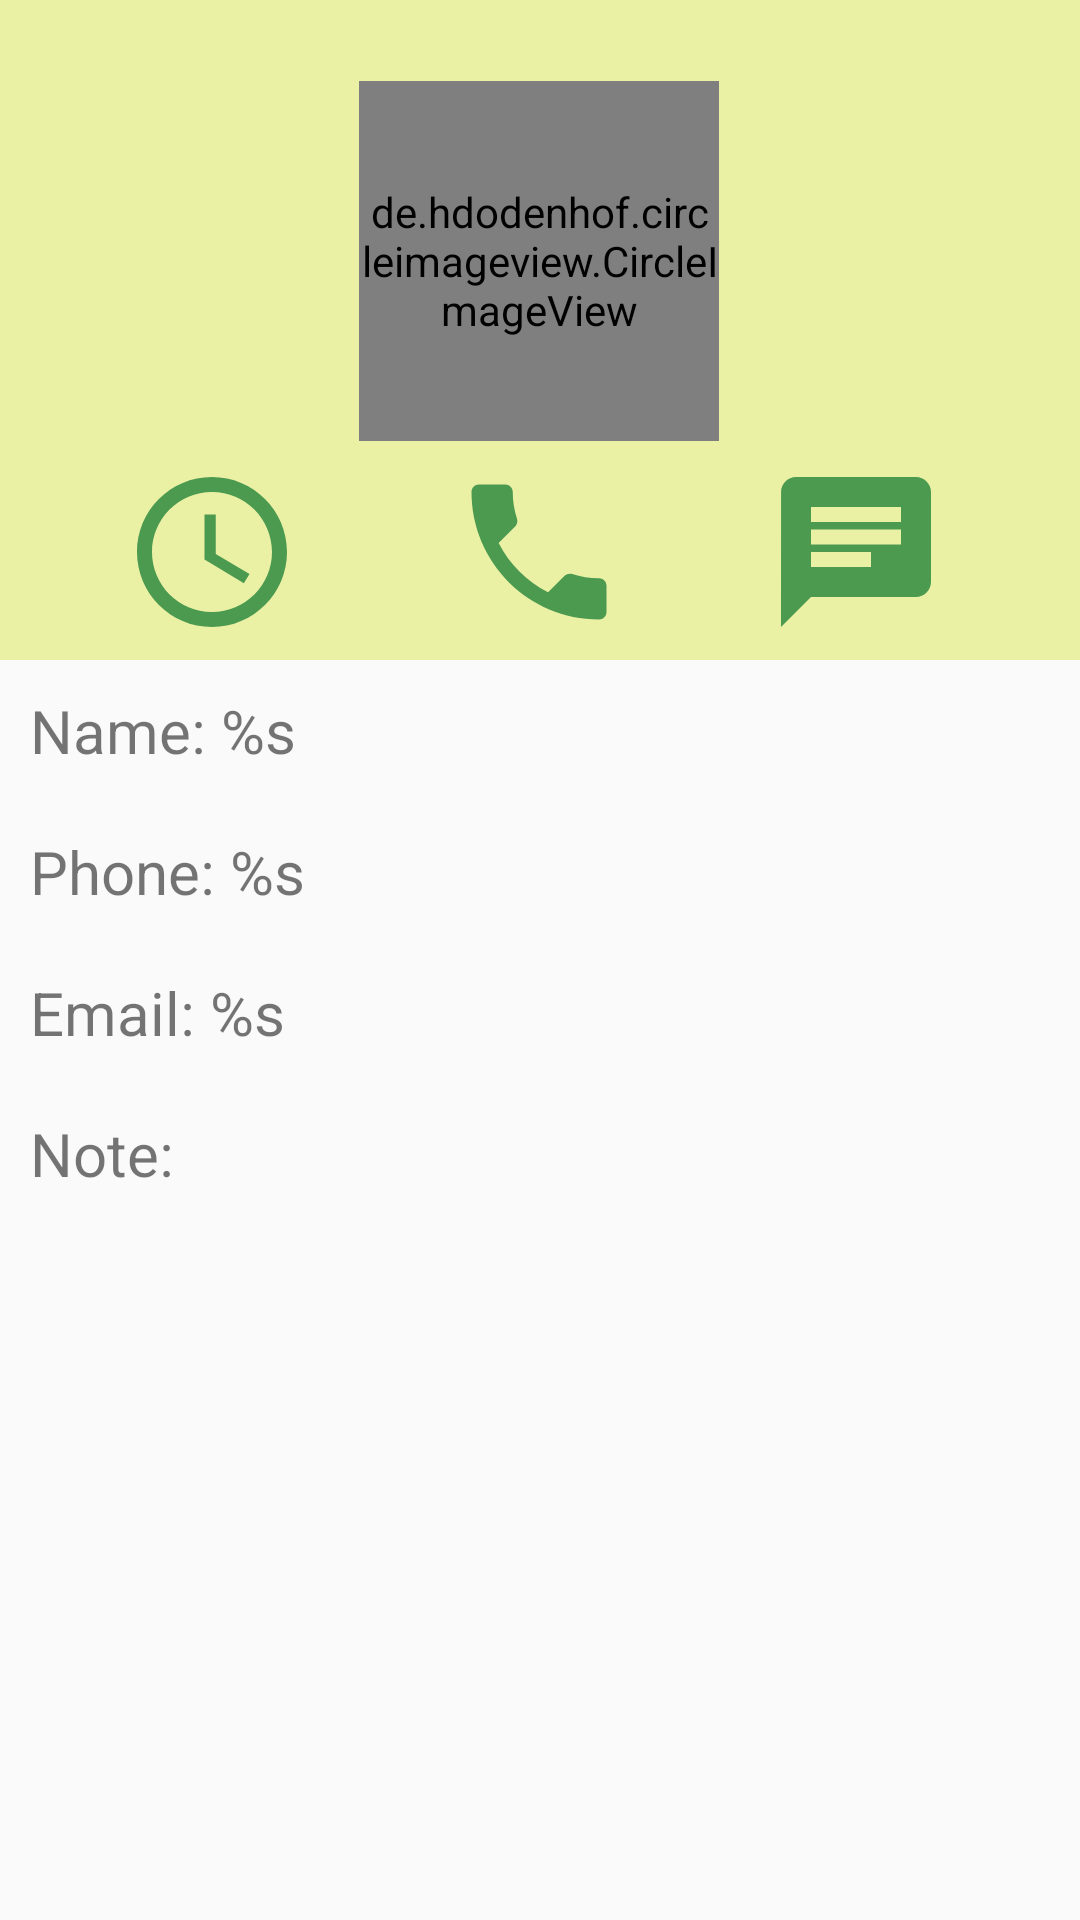

Icon bounding boxes for this 1080×1920 phone screenshot, format (x1, y1, x2, y2):
access time: (137, 477, 287, 627)
chat: (781, 477, 931, 627)
local phone: (471, 484, 607, 620)
